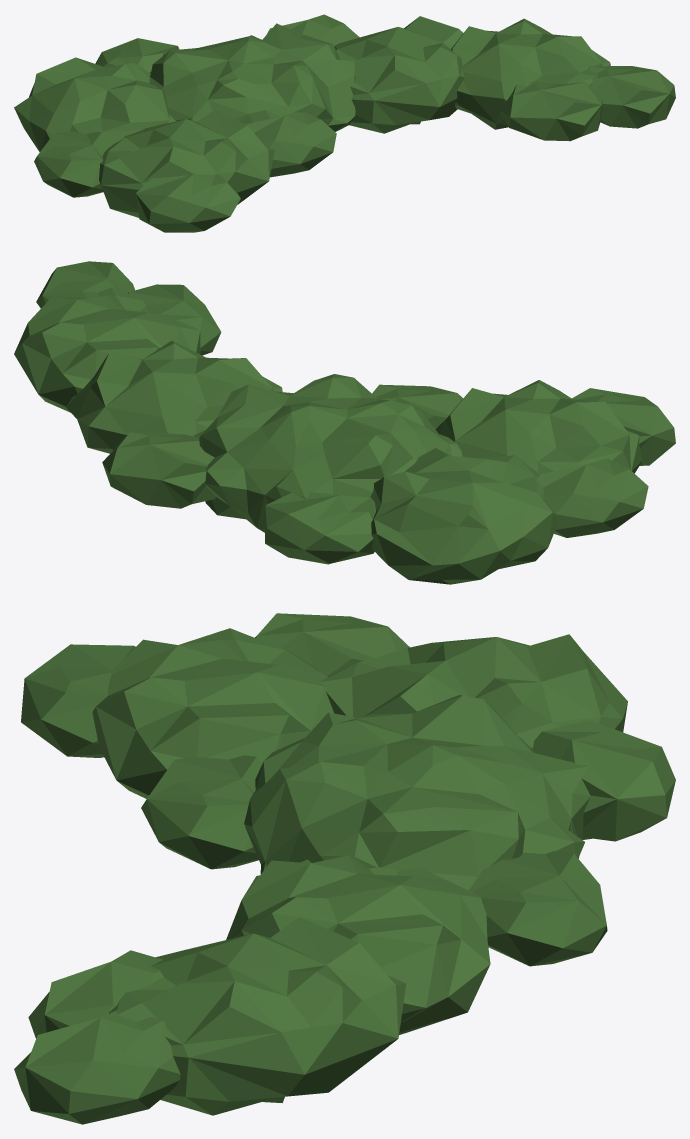
Rendered from SM_Env_Tree_Canopy_04.glb.
3 renders of one model, top to bottom at view 1: azimuth 30°, elevation 25°; view 2: azimuth 150°, elevation 25°; view 3: azimuth 270°, elevation 25°, orthographic. The views are drawn at different scales.
Parts seen in each view (by area): view 1: SM_Env_Tree_Canopy_04; view 2: SM_Env_Tree_Canopy_04; view 3: SM_Env_Tree_Canopy_04.
Part boxes in pixels (box(x1,y1,x2,y2)): SM_Env_Tree_Canopy_04: box(14, 14, 675, 232); SM_Env_Tree_Canopy_04: box(14, 261, 675, 584); SM_Env_Tree_Canopy_04: box(14, 613, 675, 1124).
Bounding box in the file's own units: 0.2465 × 0.0454 × 0.1457.
1 material, 1 textured.
